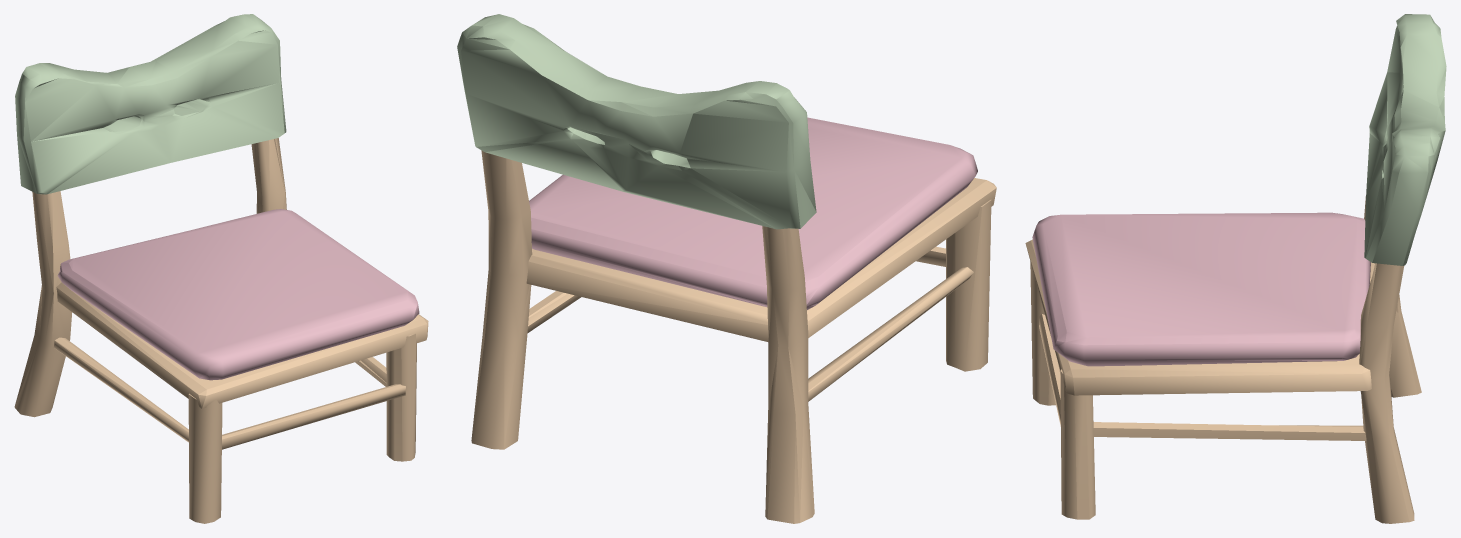
The model's file is dining_chair.glb.
The picture shows the model from 3 angles, left to right: view 1: azimuth 30°, elevation 25°; view 2: azimuth 150°, elevation 25°; view 3: azimuth 270°, elevation 25°; orthographic projection. The views are drawn at different scales.
Size of the model in its own units: 1.2 by 1.43 by 1.44.
